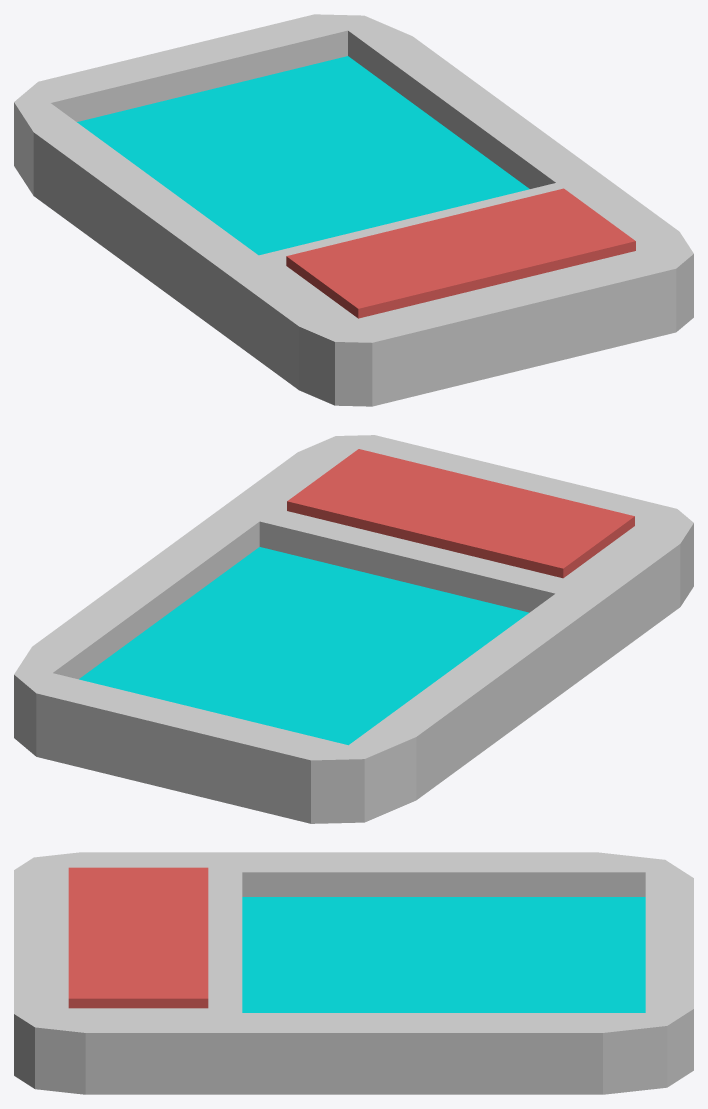
The model's file is slate.fbx.
3 renders of one model, top to bottom at view 1: azimuth 30°, elevation 25°; view 2: azimuth 150°, elevation 25°; view 3: azimuth 270°, elevation 25°, orthographic. The views are drawn at different scales.
Visible parts, largest first — view 1: Cube.002; view 2: Cube.002; view 3: Cube.002.
Part boxes in pixels (bbox=[...]): Cube.002: bbox=[14, 14, 693, 406]; Cube.002: bbox=[14, 435, 693, 823]; Cube.002: bbox=[14, 852, 693, 1094].
Size of the model in its own units: 239 by 43.89 by 380.
